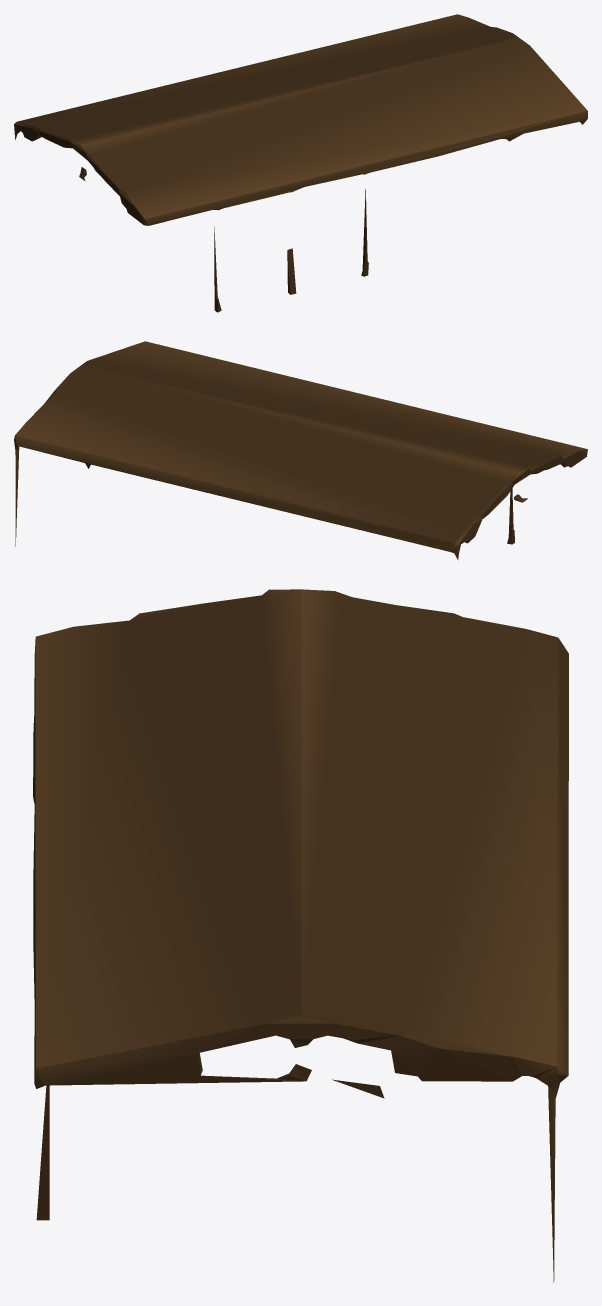
File: Pergolas and open houses(1).glb
3 views of the same model, one above another, from view 1: azimuth 30°, elevation 25°; view 2: azimuth 150°, elevation 25°; view 3: azimuth 270°, elevation 25° (orthographic). The views are drawn at different scales.
Parts seen in each view (by area): view 1: Root; view 2: Root; view 3: Root.
Boxes of the visible parts, box(x1,y1,x2,y2) form: Root: box(14, 14, 587, 312); Root: box(14, 341, 587, 560); Root: box(33, 589, 568, 1282).
Size of the model in its own units: 14.1 by 4.15 by 7.37.
